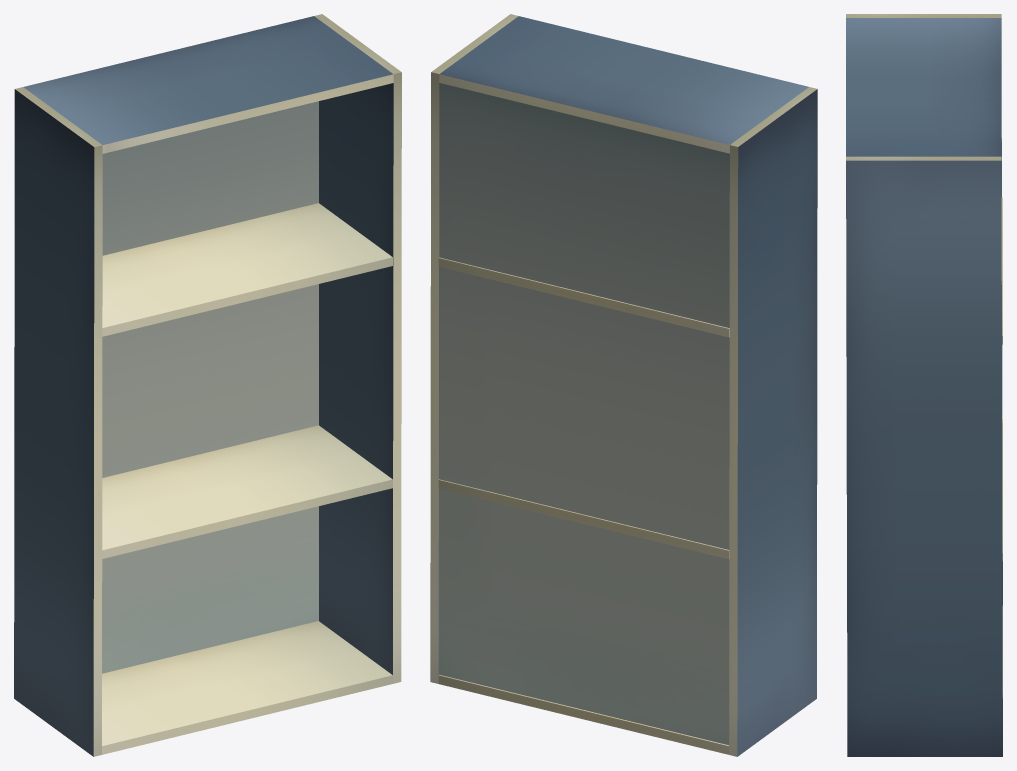
File: cabin02aaac.fbx
3 renders of one model, left to right at view 1: azimuth 30°, elevation 25°; view 2: azimuth 150°, elevation 25°; view 3: azimuth 270°, elevation 25°, orthographic. The views are drawn at different scales.
Parts seen in each view (by area): view 1: cabin02aaac; view 2: cabin02aaac; view 3: cabin02aaac.
Boxes of the visible parts, x1,y1,x2,y2 form: cabin02aaac: (14,14,401,756); cabin02aaac: (430,14,817,756); cabin02aaac: (846,14,1002,756).
Size of the model in its own units: 0.7397 by 1.4 by 0.3345.
